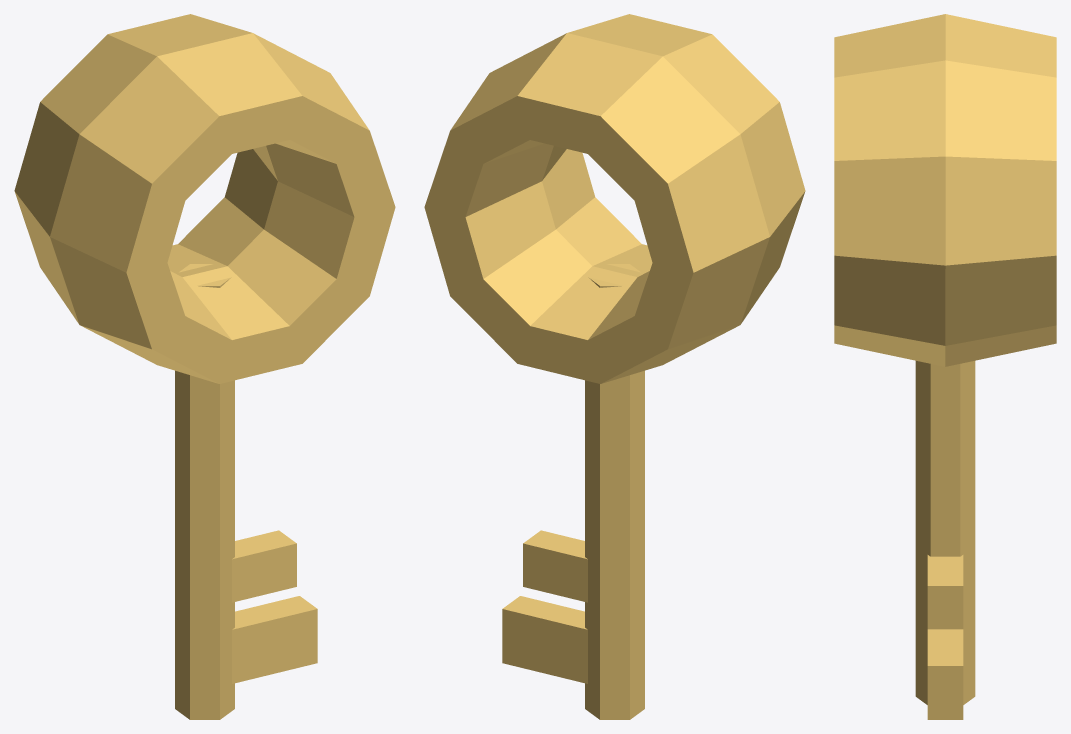
File: key.glb
The picture shows the model from 3 angles, left to right: view 1: azimuth 30°, elevation 25°; view 2: azimuth 150°, elevation 25°; view 3: azimuth 270°, elevation 25°; orthographic projection.
Parts seen in each view (by area): view 1: key; view 2: key; view 3: key.
Boxes of the visible parts, left/top/right/bottom form: key: left=14, top=14, right=395, bottom=719; key: left=424, top=14, right=805, bottom=719; key: left=834, top=14, right=1056, bottom=719.
Size of the model in its own units: 0.2992 by 0.6123 by 0.1871.
